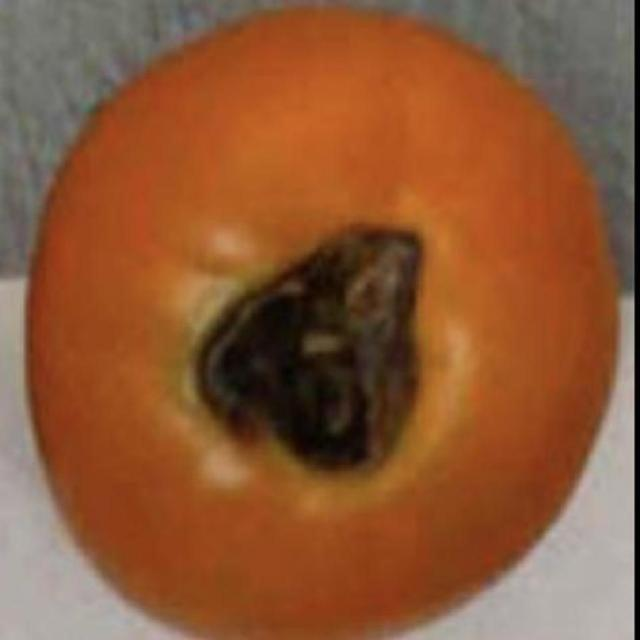Blossom End Rot Fruit: (117, 124, 288, 327)
